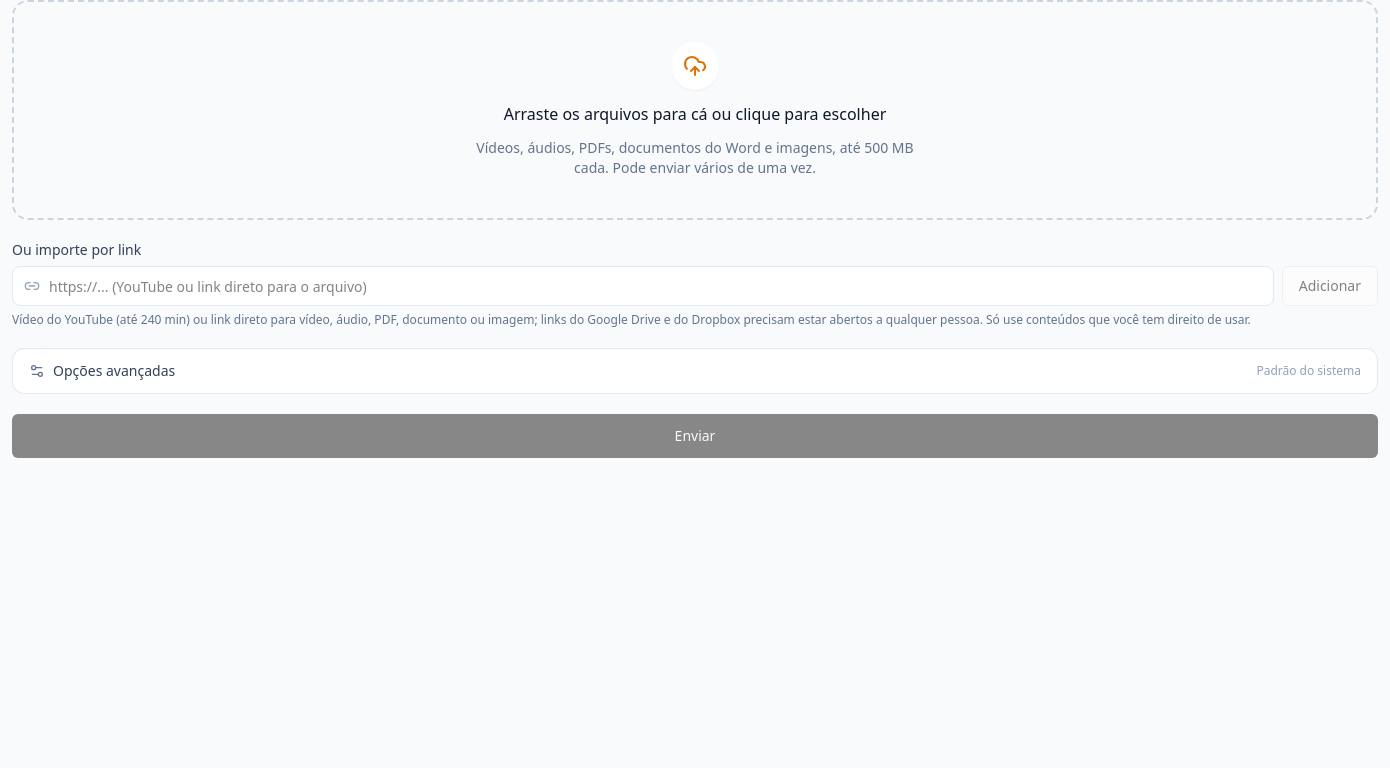
Test: UploadForm › importa um link direto para um PDF
Type "https://www2.camara.leg.br/lei.pdf" into the field labelled "Ou importe por link". click: point(643, 286)
box: x1=12 y1=266 x2=1274 y2=306
Then press Enter
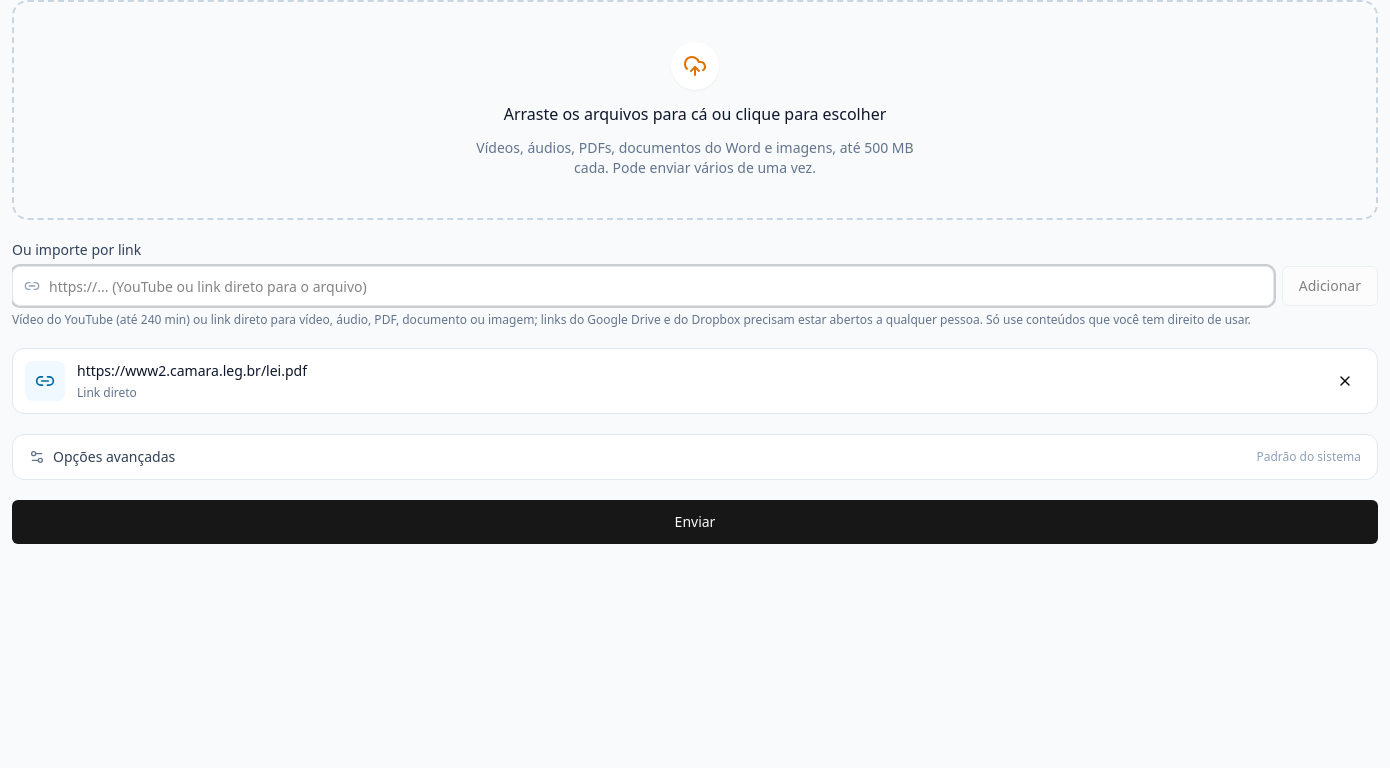
Check: the text "Link direto" is shown, box x1=77 y1=384 x2=137 y2=401
Click the button "Enviar". click: point(695, 522)
box: x1=12 y1=500 x2=1378 y2=544
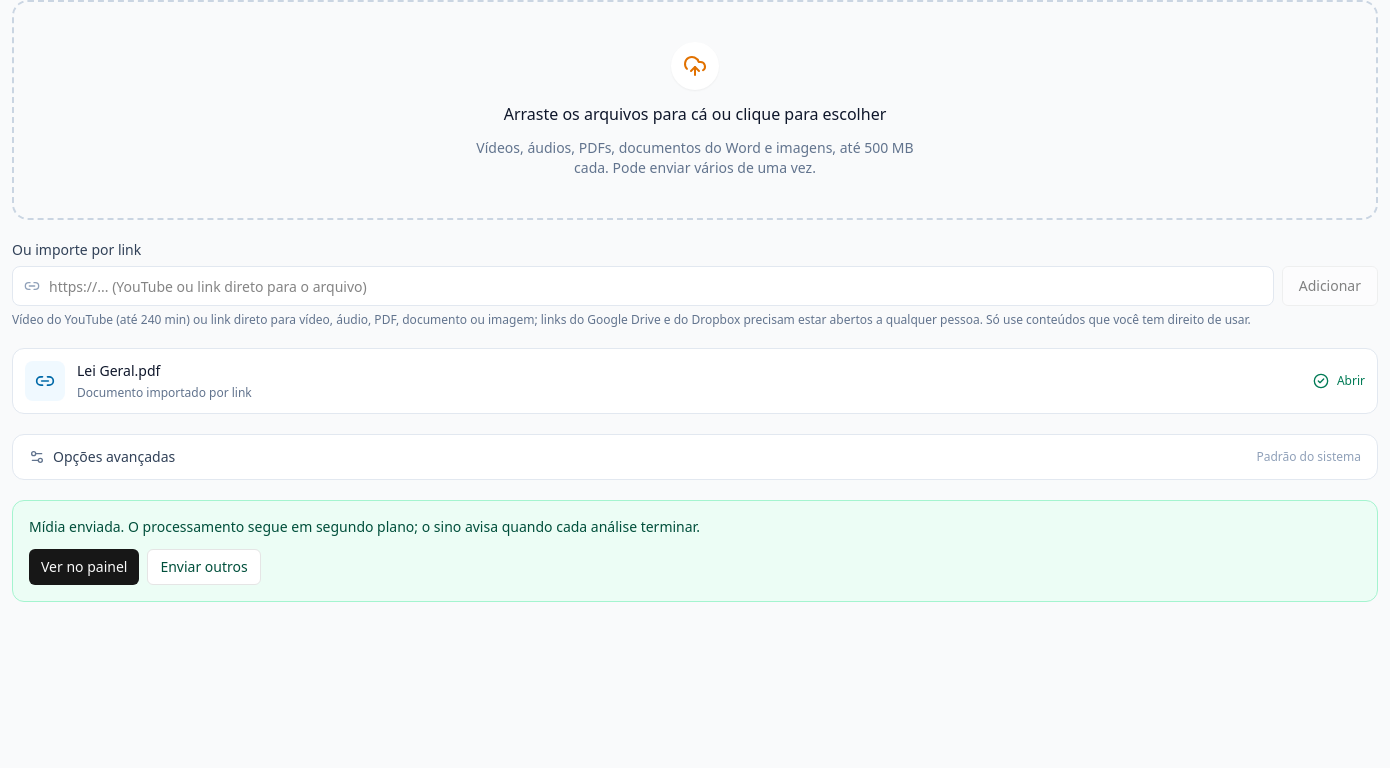
Check: the text "Lei Geral.pdf" is shown, box x1=77 y1=361 x2=160 y2=380
Check: the text "Documento importado por link" is shown, box x1=77 y1=384 x2=252 y2=401
